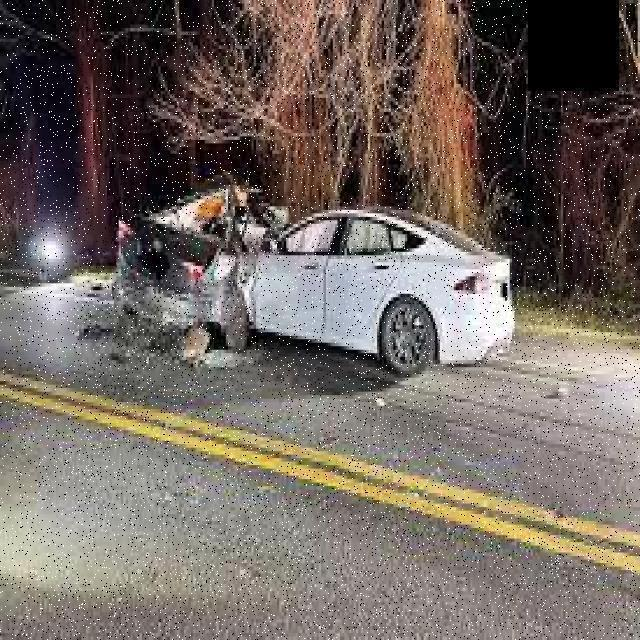accident: (113, 175, 518, 382)
